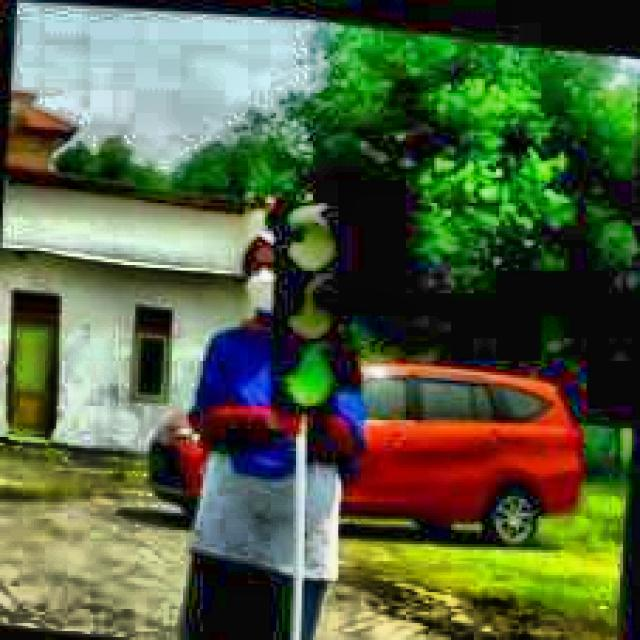green: (261, 192, 371, 417)
